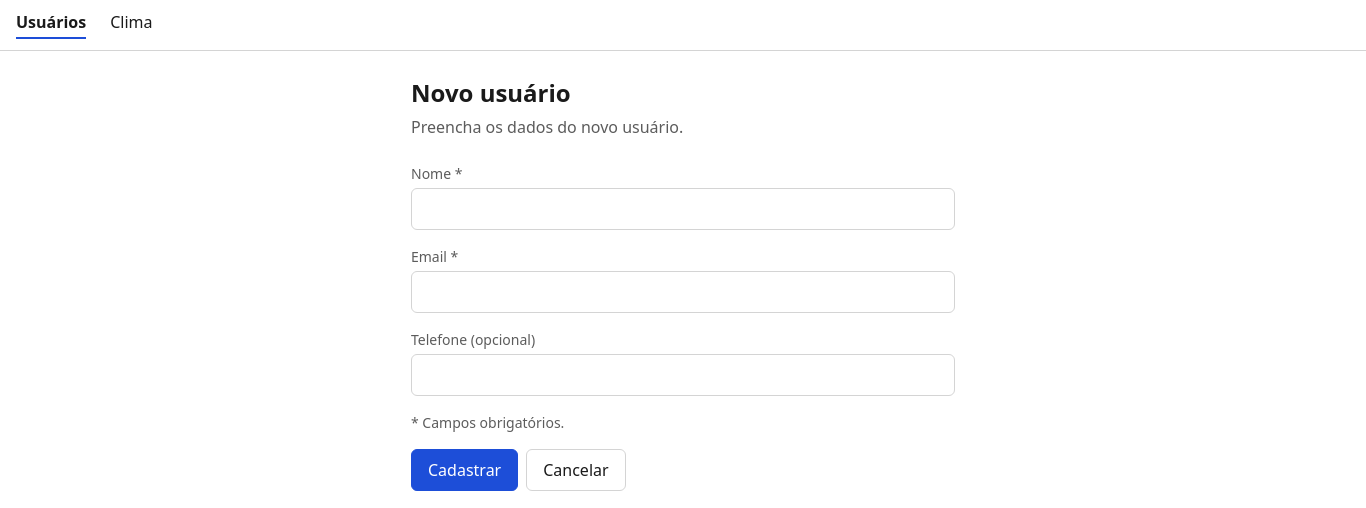
cadastro › leva ao detalhe do usuário criado
In the field labelled "Nome *": {"x": 683, "y": 209} [411,188,955,230], type "Ana Souza"
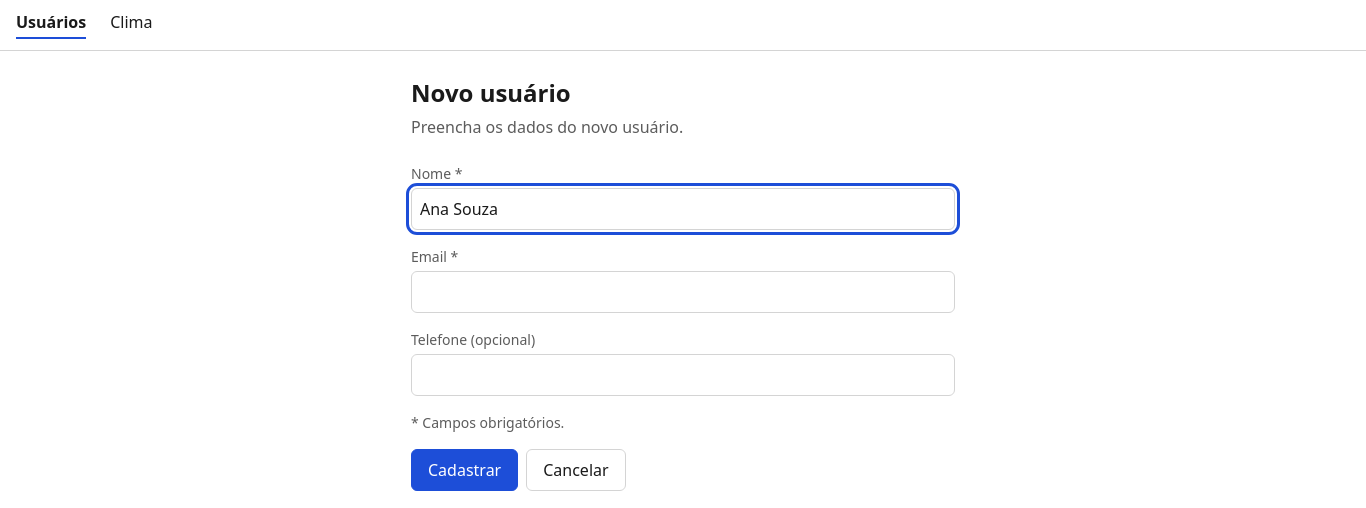
In the field labelled "Email *": {"x": 683, "y": 292} [411,271,955,313], type "ana@exemplo.com"
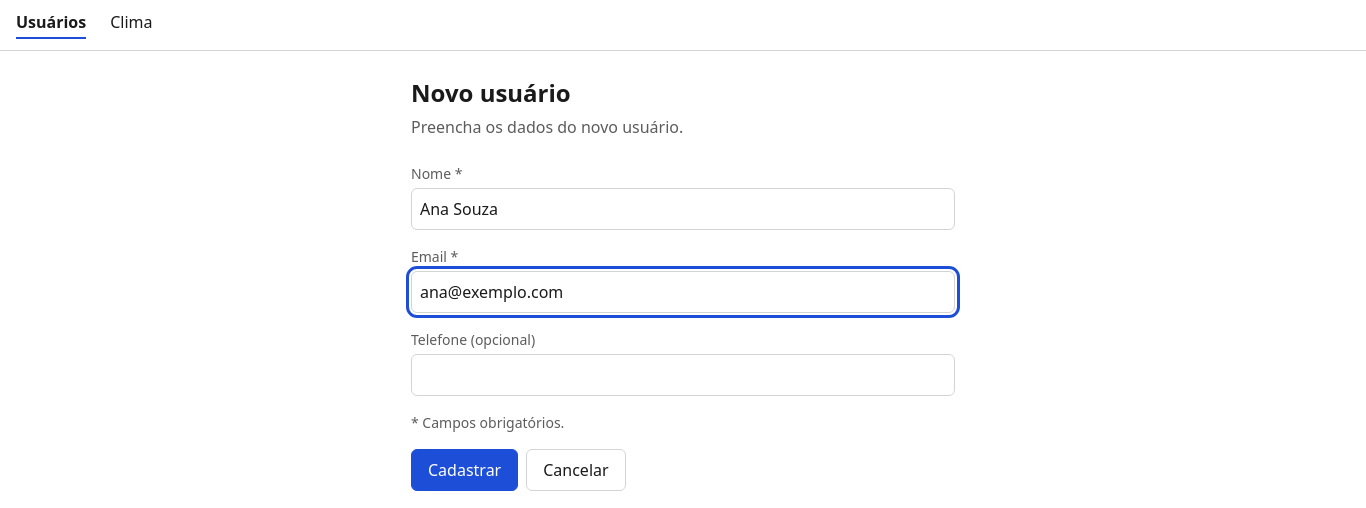
Click the button "Cadastrar": {"x": 465, "y": 470} [411,449,518,491]
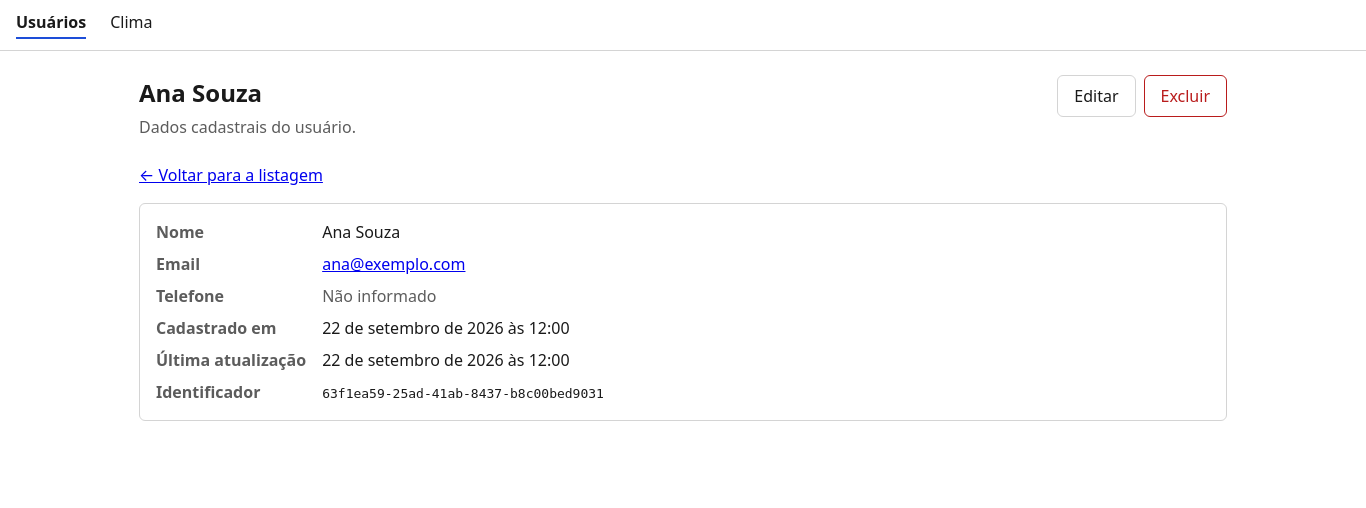
Now the heading "Ana Souza" is shown, box [139,76,262,109]
